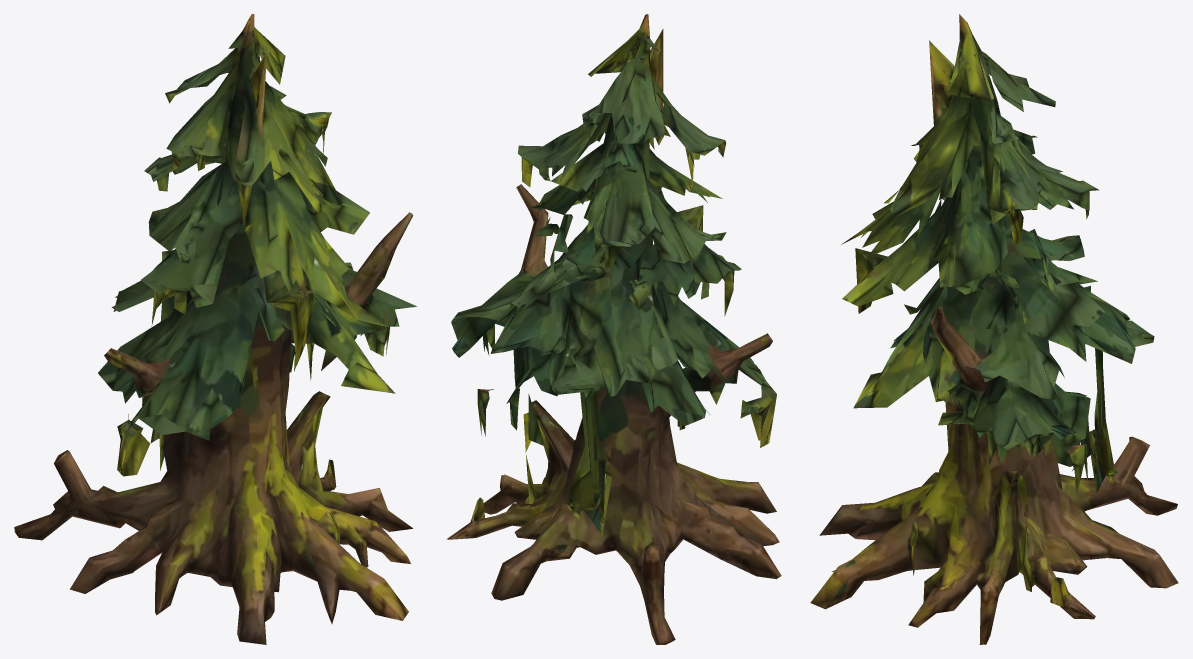
Rendered from tree_swamp_pine.glb.
3 views of the same model, side by side, from view 1: azimuth 30°, elevation 25°; view 2: azimuth 150°, elevation 25°; view 3: azimuth 270°, elevation 25° (orthographic). The views are drawn at different scales.
Parts seen in each view (by area): view 1: BakeLow; view 2: BakeLow; view 3: BakeLow.
Part boxes in pixels (left/top/right/bottom): BakeLow: left=14, top=14, right=416, bottom=644; BakeLow: left=446, top=14, right=781, bottom=644; BakeLow: left=810, top=14, right=1178, bottom=644.
Bounding box in the file's own units: 0.5279 × 0.8221 × 0.4958.
Materials: 1 (1 with a texture image).
